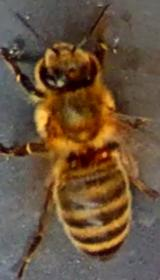varroa_mite: (86, 142, 116, 169)
